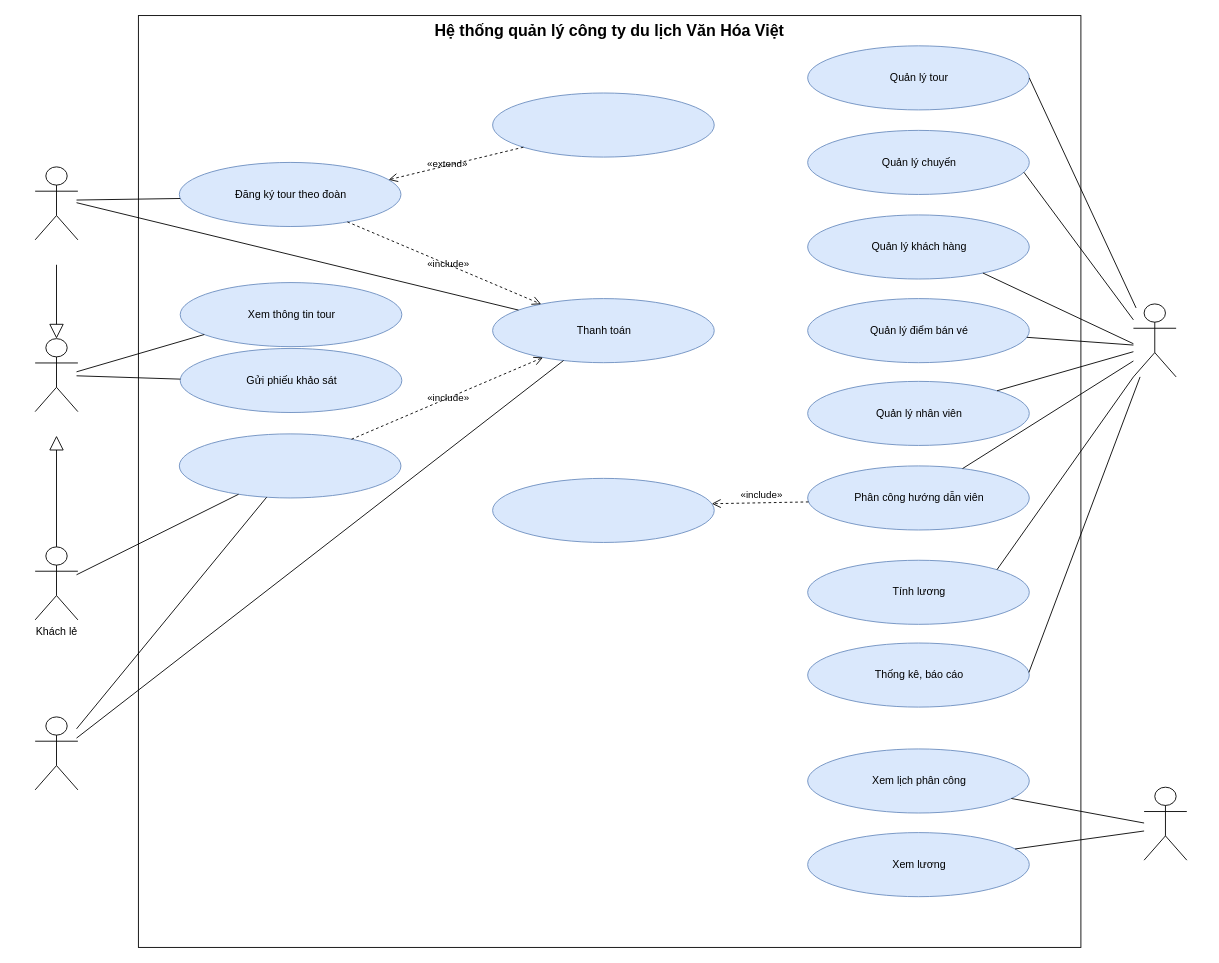
This 1219x963 diagram has some shape labels left out. The shapes that lost their labels are listed below. From the top down, each one's centre as x and y in pixels, then its label:
the point at 603,124: Nhập danh sách người đi cùng
the point at 56,203: Khách đoàn
the point at 1154,340: Nhân viên điều hành
the point at 56,375: Khách hàng
the point at 289,465: Đăng ký tour theo chuyến (mua vé)
the point at 603,509: Kiểm tra trùng lịch
the point at 56,753: Nhân viên bán vé
the point at 1165,823: Hướng dẫn viên
